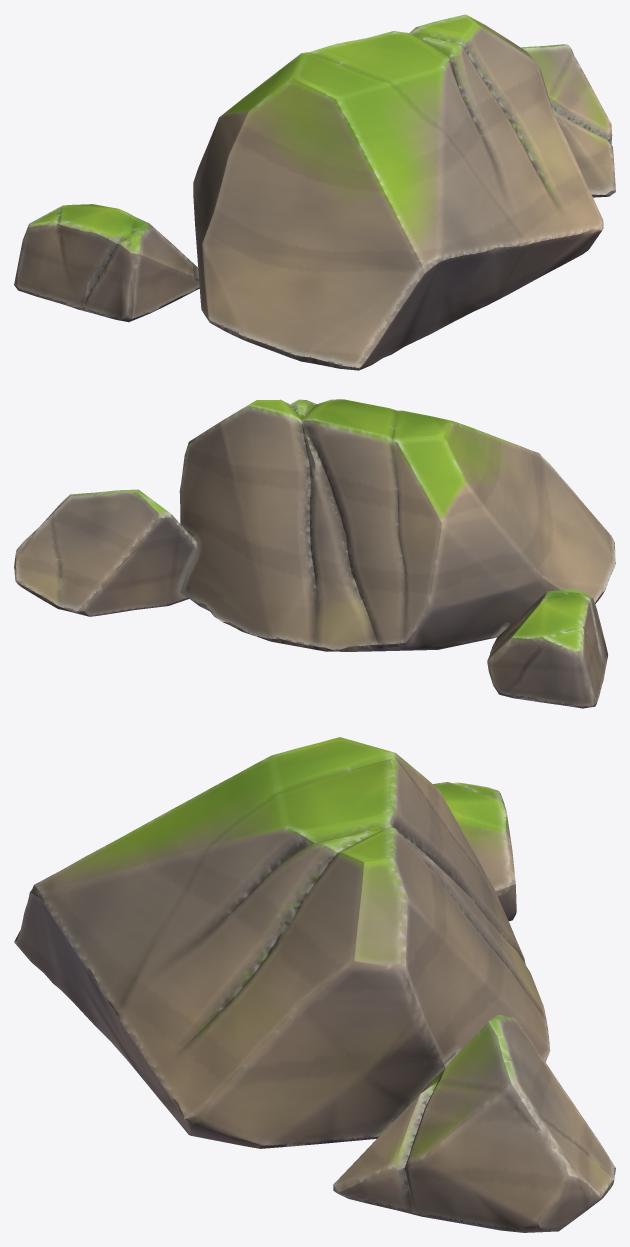
File: rock_cluster.glb
3 views of the same model, one above another, from view 1: azimuth 30°, elevation 25°; view 2: azimuth 150°, elevation 25°; view 3: azimuth 270°, elevation 25° (orthographic). The views are drawn at different scales.
Parts seen in each view (by area): view 1: rock_cluster; view 2: rock_cluster; view 3: rock_cluster.
Boxes of the visible parts, box(x1,y1,x2,y2) form: rock_cluster: box(14, 14, 615, 370); rock_cluster: box(14, 399, 615, 708); rock_cluster: box(14, 737, 615, 1232).
Bounding box in the file's own units: 1.97 × 0.6447 × 1.29.
Materials: 1 (1 with a texture image).
